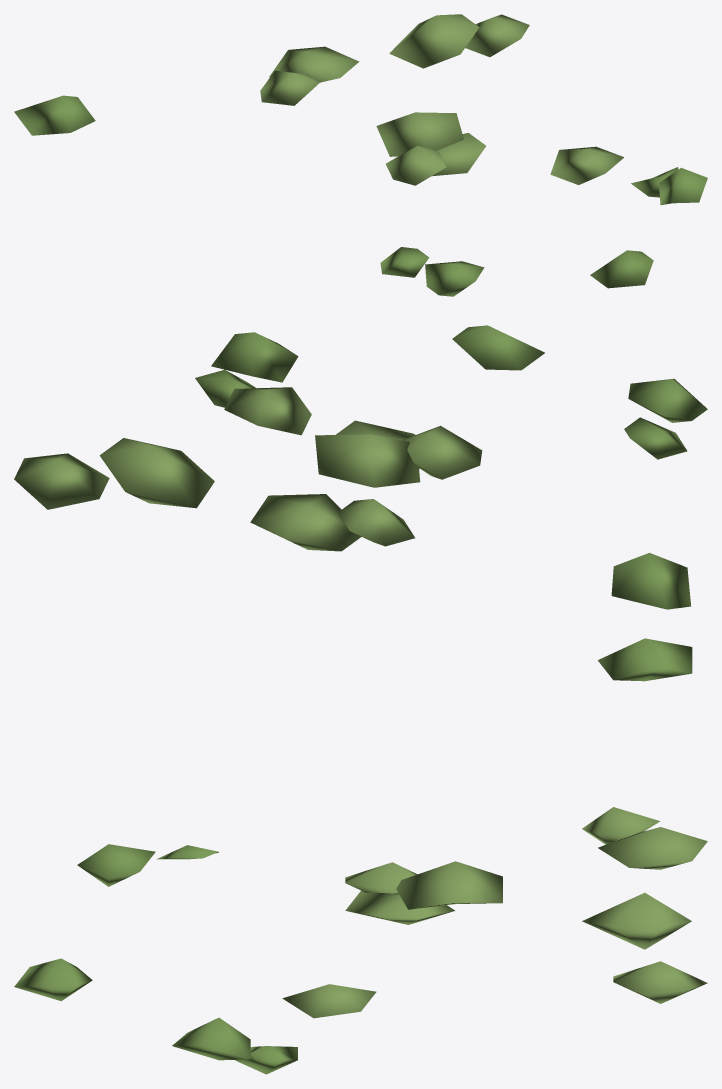
File: canopy-2-0--8.glb
The picture shows the model from 3 angles, top to bottom: view 1: azimuth 30°, elevation 25°; view 2: azimuth 150°, elevation 25°; view 3: azimuth 270°, elevation 25°; orthographic projection. The views are drawn at different scales.
Bounding box in the file's own units: 122 × 25 × 110.
Materials: 1 (1 with a texture image).
